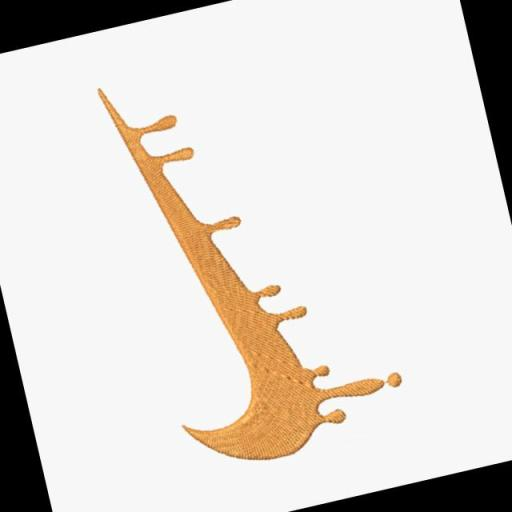Nike: (92, 46, 330, 480)
